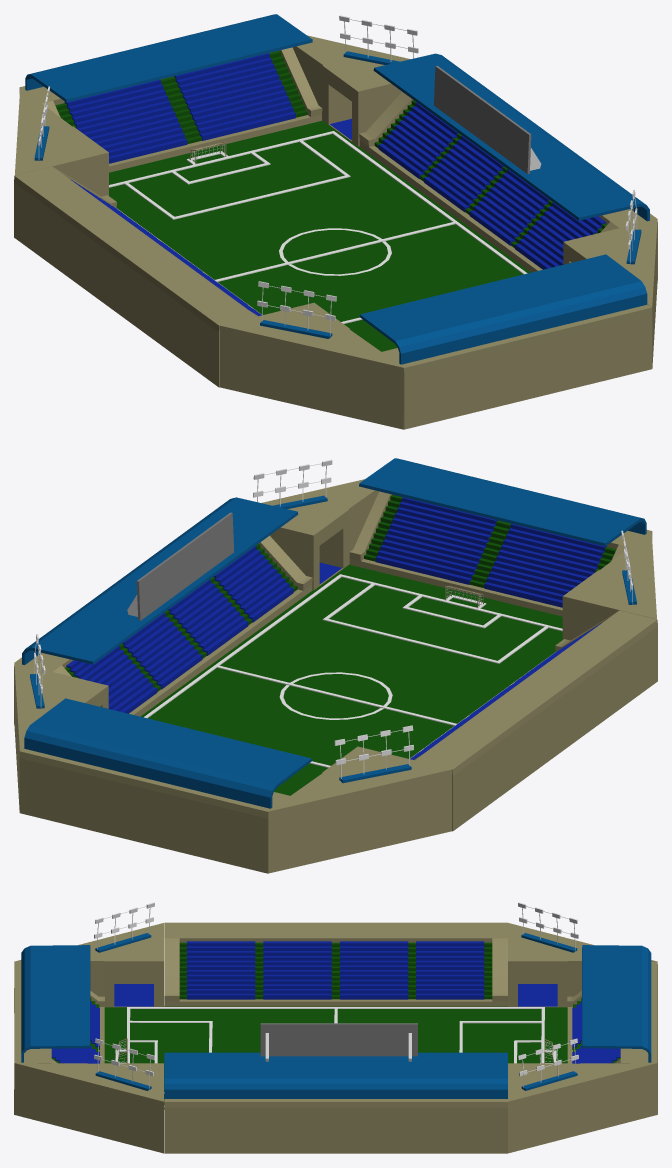
Rendered from stadium1.FBX.
3 views of the same model, one above another, from view 1: azimuth 30°, elevation 25°; view 2: azimuth 150°, elevation 25°; view 3: azimuth 270°, elevation 25° (orthographic). The views are drawn at different scales.
Parts seen in each view (by area): view 1: Box001, Box010, Box008, Box015, Box011, Box012, Box014, Line008, Line007, Box006, Box009, Shape029 (+11 smaller); view 2: Box001, Box010, Box003, Box014, Box009, Box012, Box015, Line021, Line022, Box007, Box011, Shape029 (+11 smaller); view 3: Box005, Box001, Box012, Box010, Box006, Box007, Box014, Box015, Box016, Box011, Box009, Line026 (+13 smaller).
Part boxes in pixels (x1,y1,x2,y2): Box001: (109,120,530,351); Box010: (14,166,257,387); Box008: (382,304,652,429); Box015: (359,254,647,364); Box011: (220,302,404,429); Box012: (373,53,649,221); Box014: (25,14,312,102); Line008: (174,53,295,140); Line007: (64,79,187,163); Box006: (292,35,410,146); Box009: (14,87,108,196); Shape029: (109,131,527,323); Box001: (141,564,562,795); Box010: (414,610,657,831); Box003: (19,748,289,873); Box014: (24,698,311,808); Box009: (268,746,451,873); Box012: (22,497,298,664); Box015: (359,458,646,546); Line021: (375,497,497,584); Line022: (484,524,606,607); Box007: (261,479,378,590); Box011: (562,531,656,640); Shape029: (144,574,562,767); Box005: (164,1099,507,1153); Box001: (104,1006,567,1109); Box012: (164,1052,507,1098); Box010: (164,922,507,1006); Box006: (508,1063,657,1153); Box007: (14,1063,163,1153); Box014: (582,945,651,1062); Box015: (21,945,90,1062); Box016: (260,1023,417,1056); Box011: (14,923,163,1012); Box009: (508,923,657,1007); Line026: (416,941,484,999).
Size of the model in its own units: 268 by 70.44 by 406.
